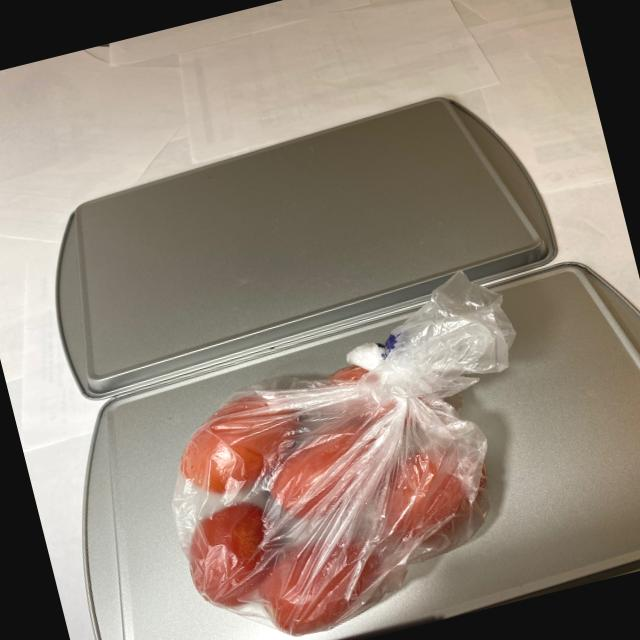tomato: (148, 311, 537, 640)
